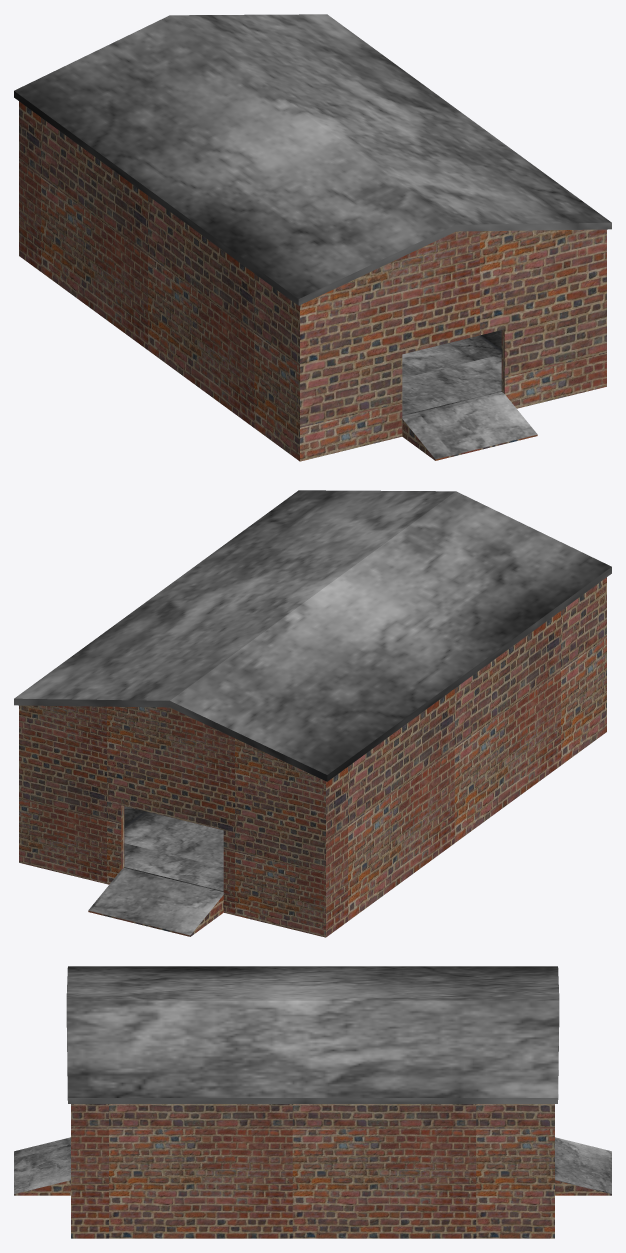
File: WAREHOUSE_03.fbx
3 renders of one model, top to bottom at view 1: azimuth 30°, elevation 25°; view 2: azimuth 150°, elevation 25°; view 3: azimuth 270°, elevation 25°, orthographic. The views are drawn at different scales.
Visible parts, largest first — view 1: WAREHOUSE_03; view 2: WAREHOUSE_03; view 3: WAREHOUSE_03.
Part boxes in pixels (x1=…): WAREHOUSE_03: x1=14, y1=14, x2=611, y2=461; WAREHOUSE_03: x1=14, y1=490, x2=611, y2=937; WAREHOUSE_03: x1=14, y1=966, x2=611, y2=1238.
Size of the model in its own units: 1756 by 1078 by 3371.
